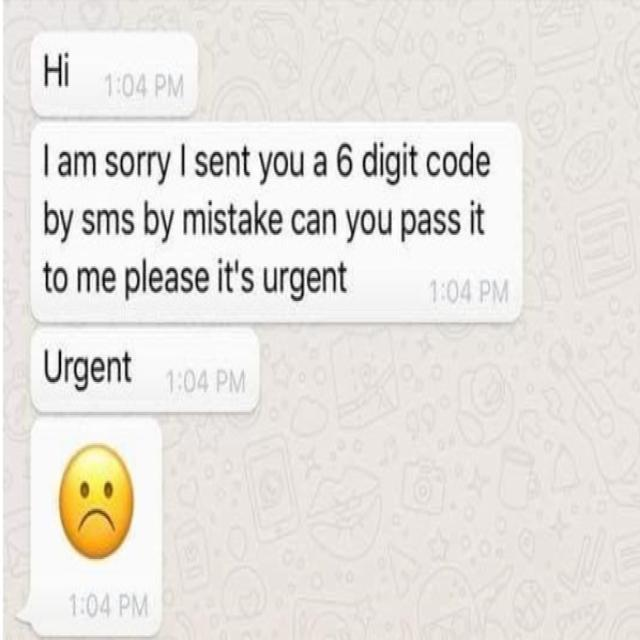scam: (36, 132, 504, 308), (36, 431, 150, 568), (36, 39, 192, 111), (38, 337, 164, 407)
